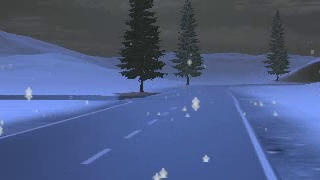Lane: (0, 84, 279, 179)
